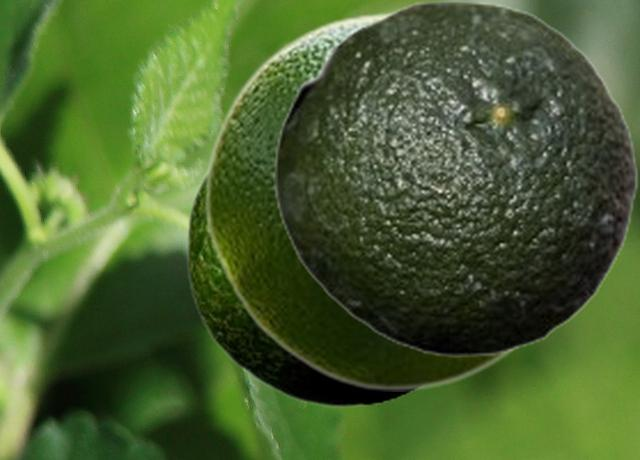calamansi: (273, 0, 638, 356), (203, 11, 521, 390), (185, 166, 420, 407)
